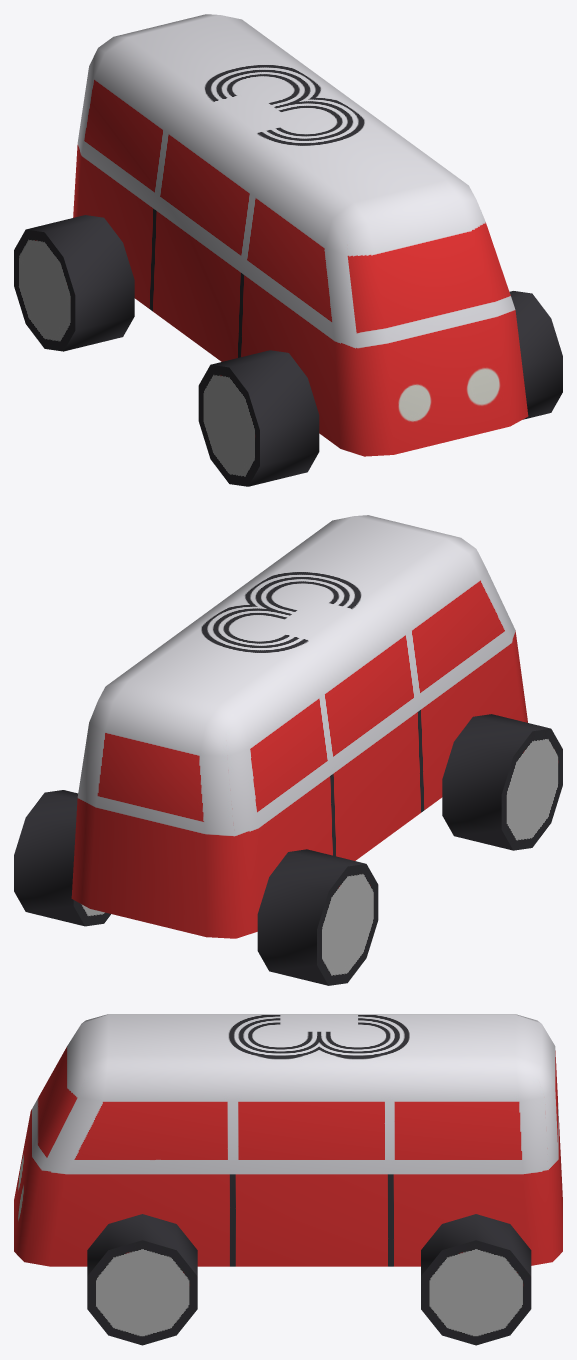
Rendered from VWBraud.fbx.
3 renders of one model, top to bottom at view 1: azimuth 30°, elevation 25°; view 2: azimuth 150°, elevation 25°; view 3: azimuth 270°, elevation 25°, orthographic. The views are drawn at different scales.
Visible parts, largest first — view 1: polySurface13; view 2: polySurface13; view 3: polySurface13.
Boxes of the visible parts, x1,y1,x2,y2 form: polySurface13: (14, 14, 562, 486); polySurface13: (14, 515, 562, 985); polySurface13: (14, 1014, 562, 1345).
Bounding box in the file's own units: 43.8 × 37.25 × 76.1.
